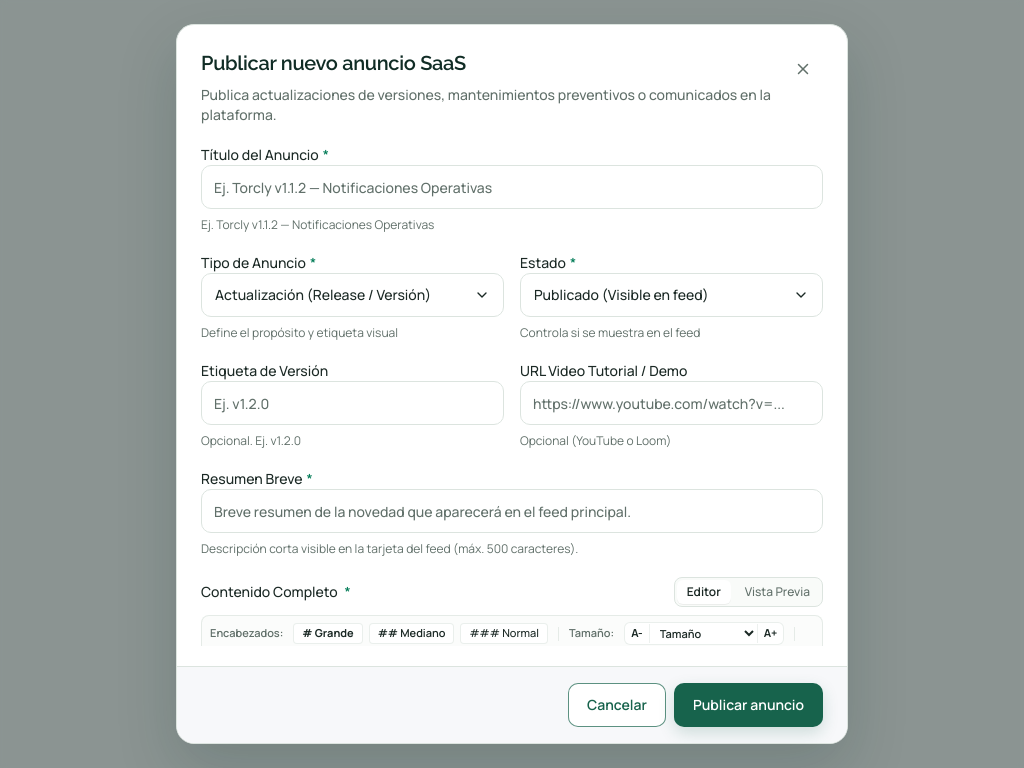
Test: AnnouncementAdminFormModal › muestra errores customizados en los campos obligatorios al intentar enviar formulario vacío
The image size is (1024, 768).
Click the button "Publicar anuncio". click: point(748, 705)
box: [674,683,823,727]
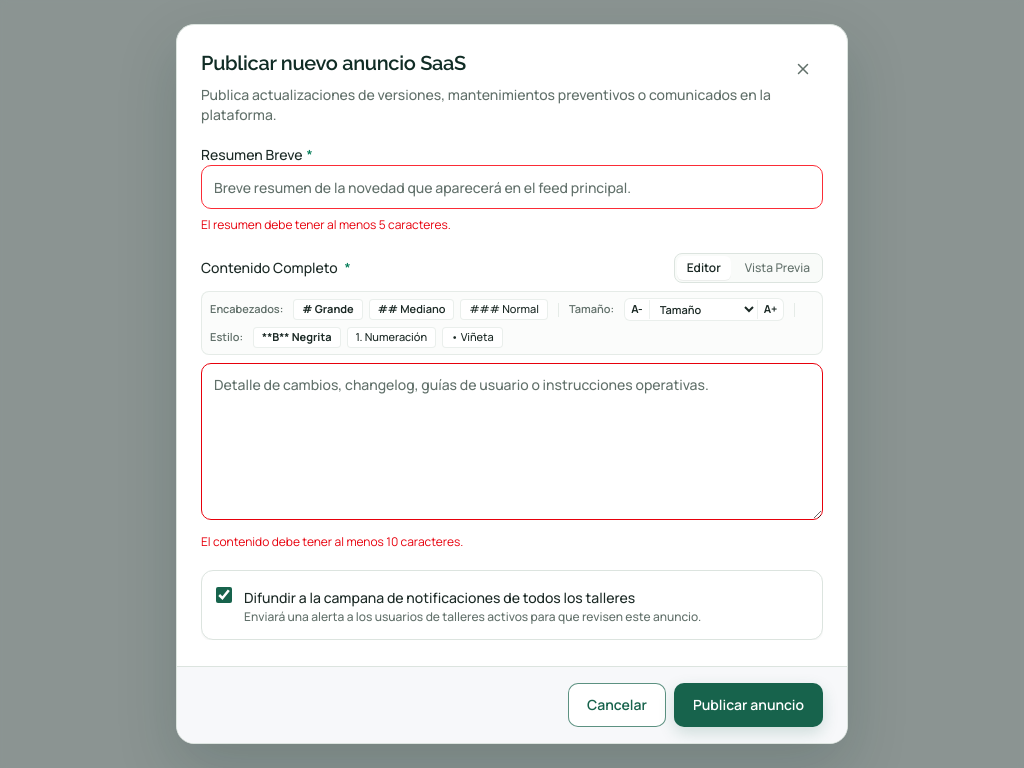
Expected: the text "El resumen debe tener al menos 5 caracteres." is shown, [201,216,451,233]
Expected: the text "El contenido debe tener al menos 10 caracteres." is shown, [201,533,463,550]
